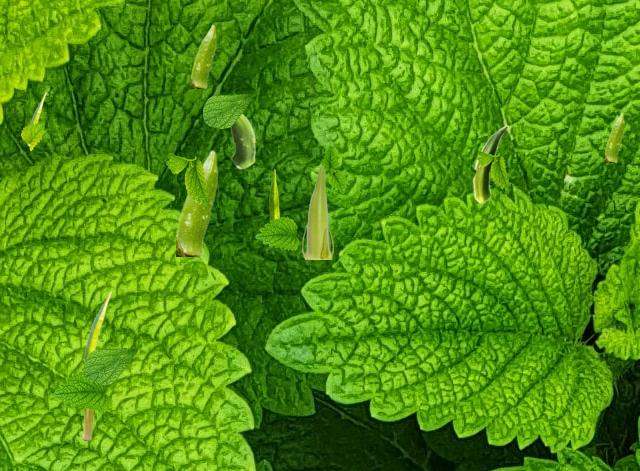okra: (176, 149, 217, 255), (301, 164, 332, 258), (472, 125, 507, 203), (84, 291, 110, 359), (191, 24, 215, 87), (230, 113, 255, 168), (27, 92, 45, 146), (605, 112, 623, 161), (82, 364, 92, 439), (269, 169, 280, 219)
